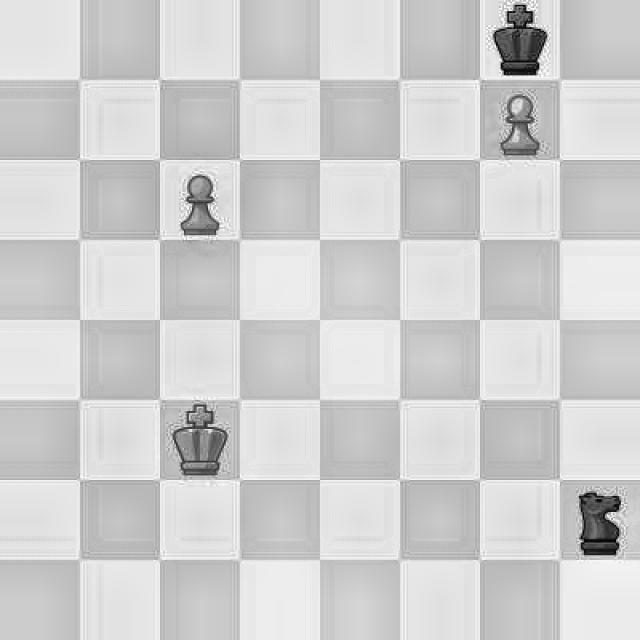Black Knight: (560, 482, 633, 558)
black king: (483, 4, 544, 76)
white king: (165, 397, 236, 478)
white pawn: (160, 168, 234, 242), (483, 83, 544, 157)
